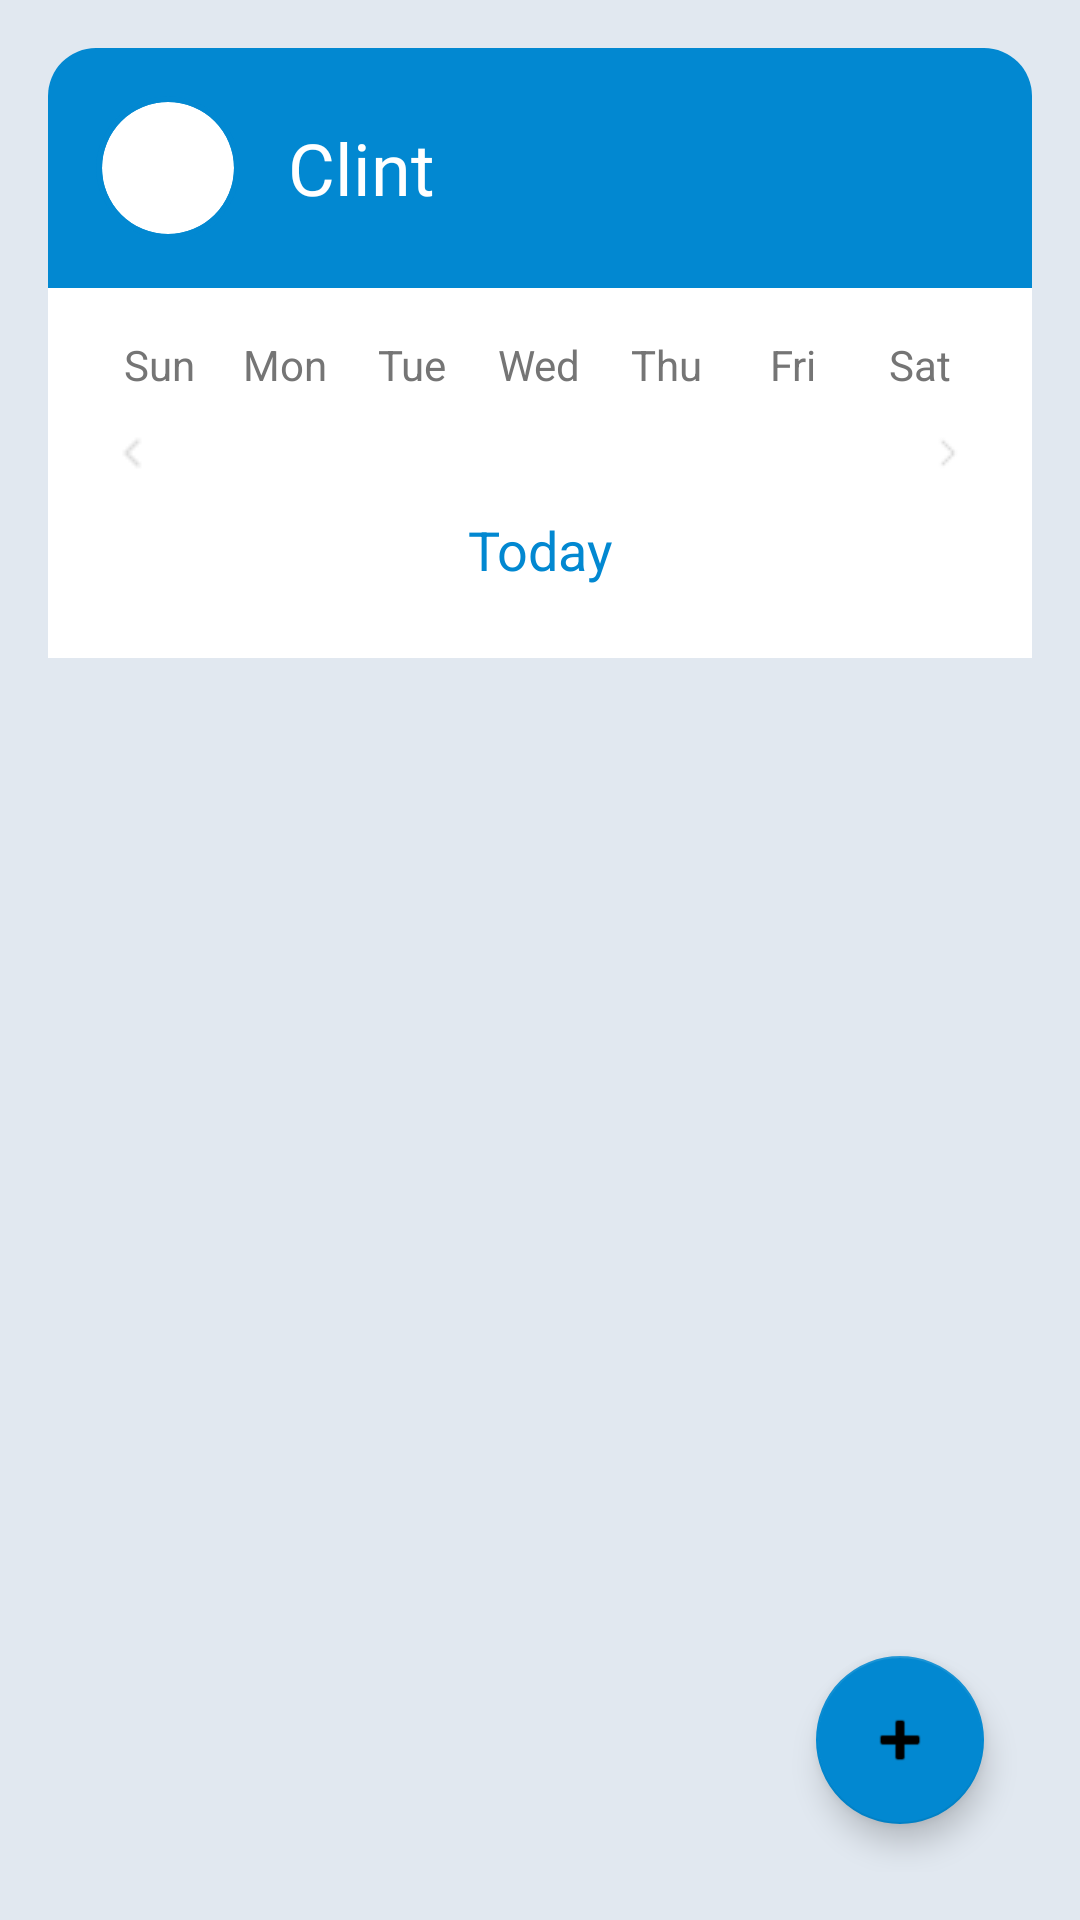

Icon click points for this 1080x1920 phone screenshot, format [x,y]:
Add: [900,1740]
Previous week: [132,453]
